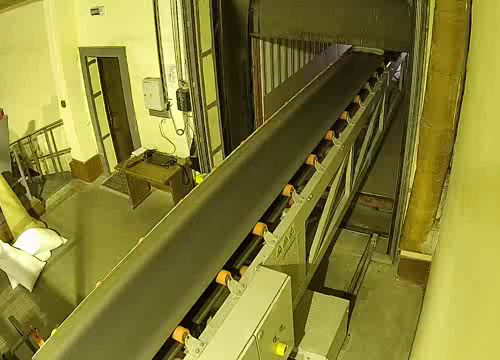bag: (350, 45, 386, 58)
